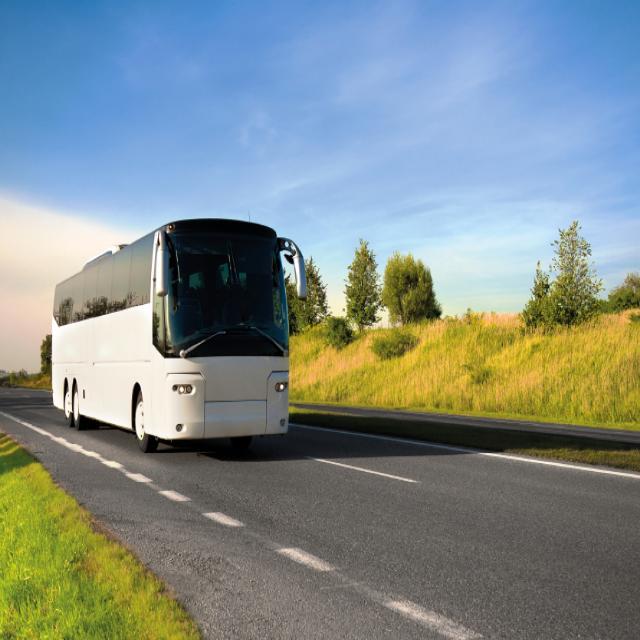BUS: (25, 194, 344, 488)
